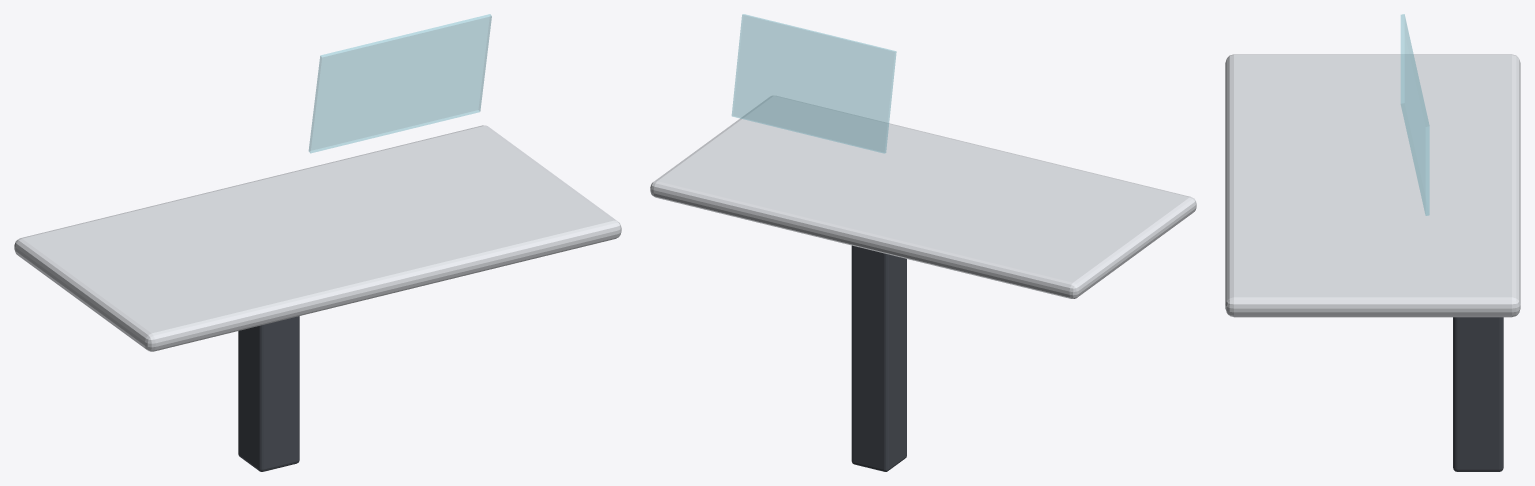
The model's file is desk_floating.glb.
3 views of the same model, side by side, from view 1: azimuth 30°, elevation 25°; view 2: azimuth 150°, elevation 25°; view 3: azimuth 270°, elevation 25° (orthographic). The views are drawn at different scales.
Parts seen in each view (by area): view 1: GD_desk_floating__m0, GD_desk_floating__m3, GD_desk_floating__m1; view 2: GD_desk_floating__m0, GD_desk_floating__m3, GD_desk_floating__m1; view 3: GD_desk_floating__m0, GD_desk_floating__m1, GD_desk_floating__m3.
Boxes of the visible parts, x1,y1,x2,y2 form: GD_desk_floating__m0: [14, 125, 621, 351]; GD_desk_floating__m3: [308, 14, 491, 153]; GD_desk_floating__m1: [238, 316, 299, 471]; GD_desk_floating__m0: [650, 95, 1196, 298]; GD_desk_floating__m3: [731, 14, 896, 153]; GD_desk_floating__m1: [851, 245, 906, 471]; GD_desk_floating__m0: [1225, 54, 1520, 317]; GD_desk_floating__m1: [1453, 317, 1503, 471]; GD_desk_floating__m3: [1400, 14, 1429, 215].
Bounding box in the file's own units: 1.4 × 1.2 × 0.7.
